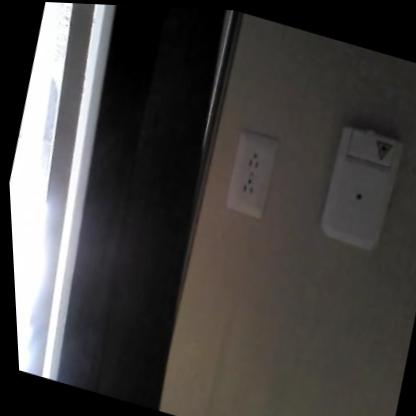OUTLET: (221, 129, 282, 221)
